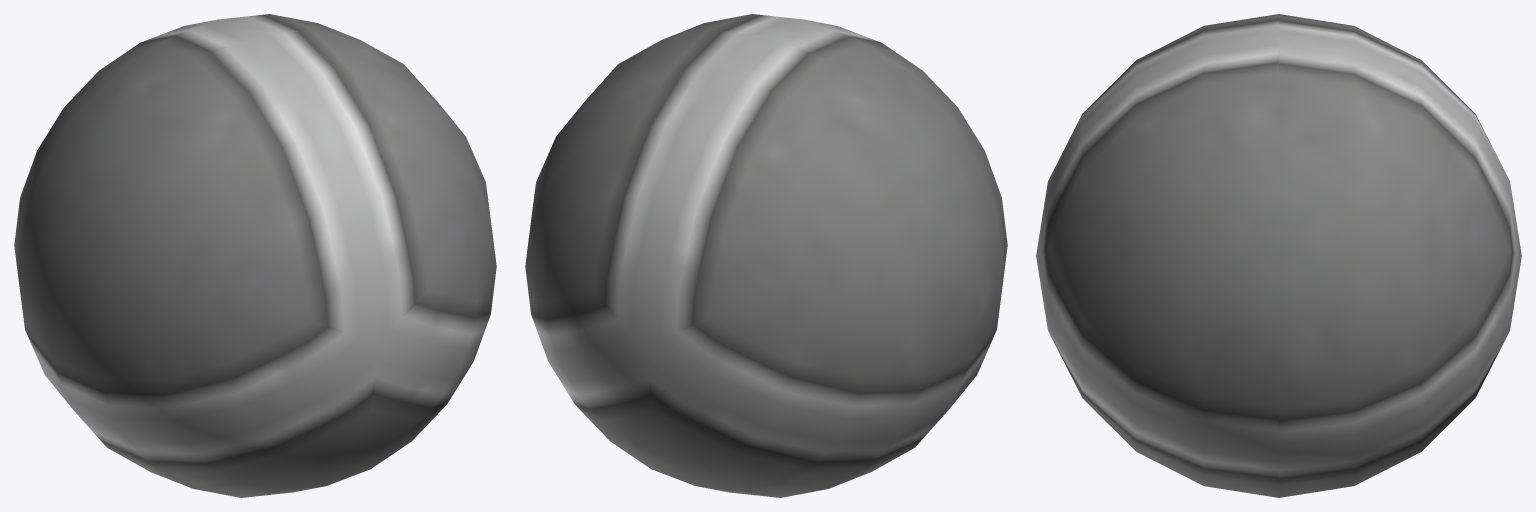
File: 4mv_fuel_tank_srf_1.obj
The picture shows the model from 3 angles, left to right: view 1: azimuth 30°, elevation 25°; view 2: azimuth 150°, elevation 25°; view 3: azimuth 270°, elevation 25°; orthographic projection.
Parts seen in each view (by area): view 1: mesh1; view 2: mesh1; view 3: mesh1.
Boxes of the visible parts, x1,y1,x2,y2 form: mesh1: (14, 14, 496, 497); mesh1: (525, 14, 1007, 497); mesh1: (1036, 14, 1521, 497).
Size of the model in its own units: 0.125 by 0.125 by 0.125.
1 material, 1 textured.
